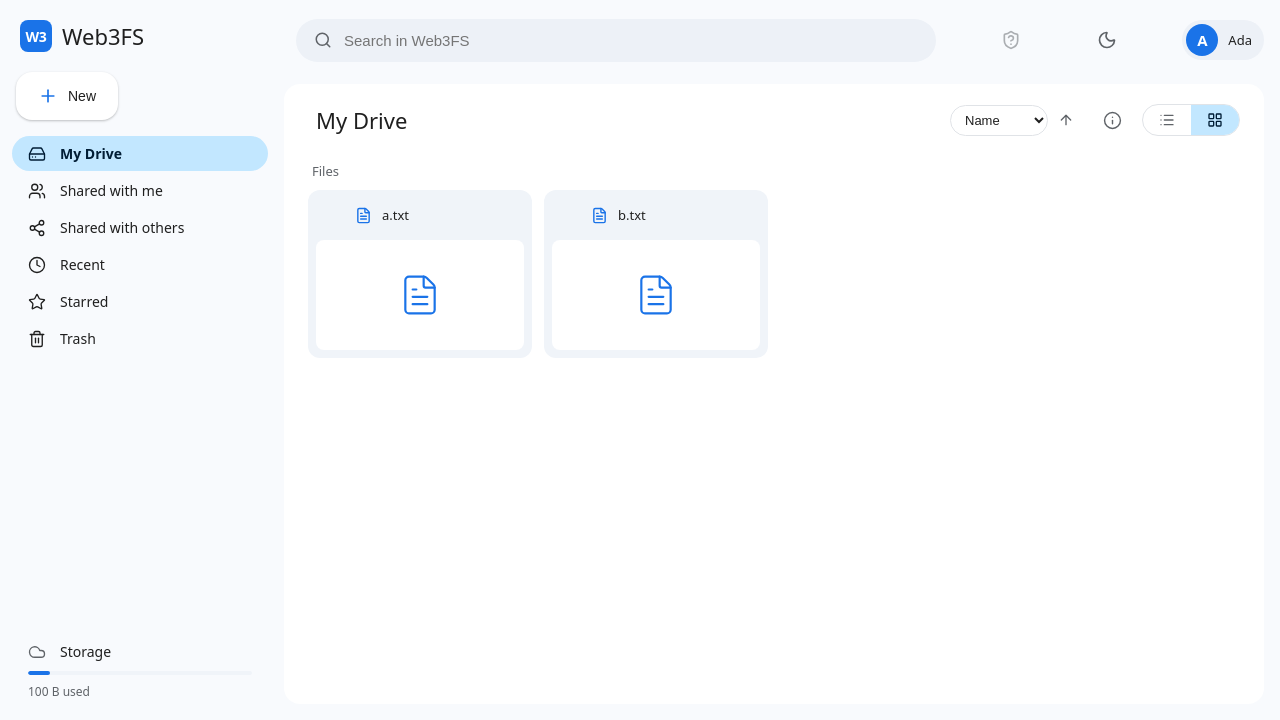
Scenario: list view and sorting › the sort-direction toggle flips ascending/descending
Click the button titled "Ascending" at (1066, 120), box [1050, 104, 1082, 136]
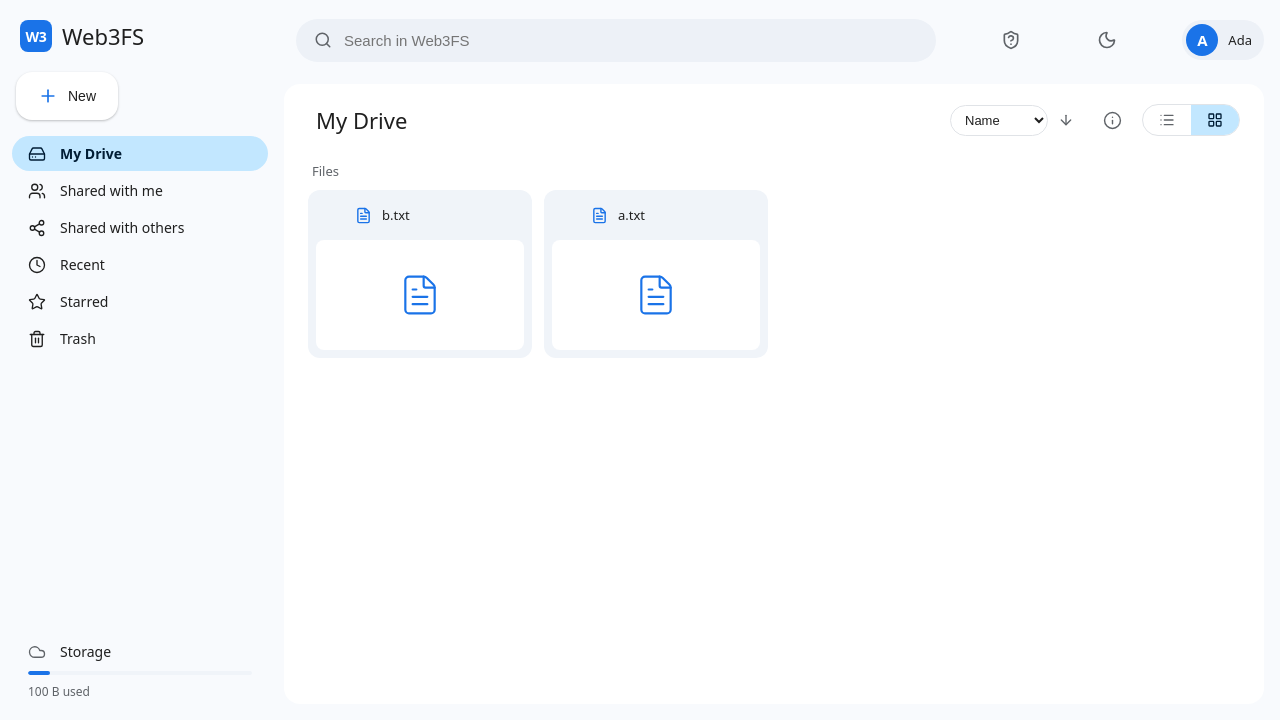
Now the button titled "Descending" is shown, box [1050, 104, 1082, 136]
